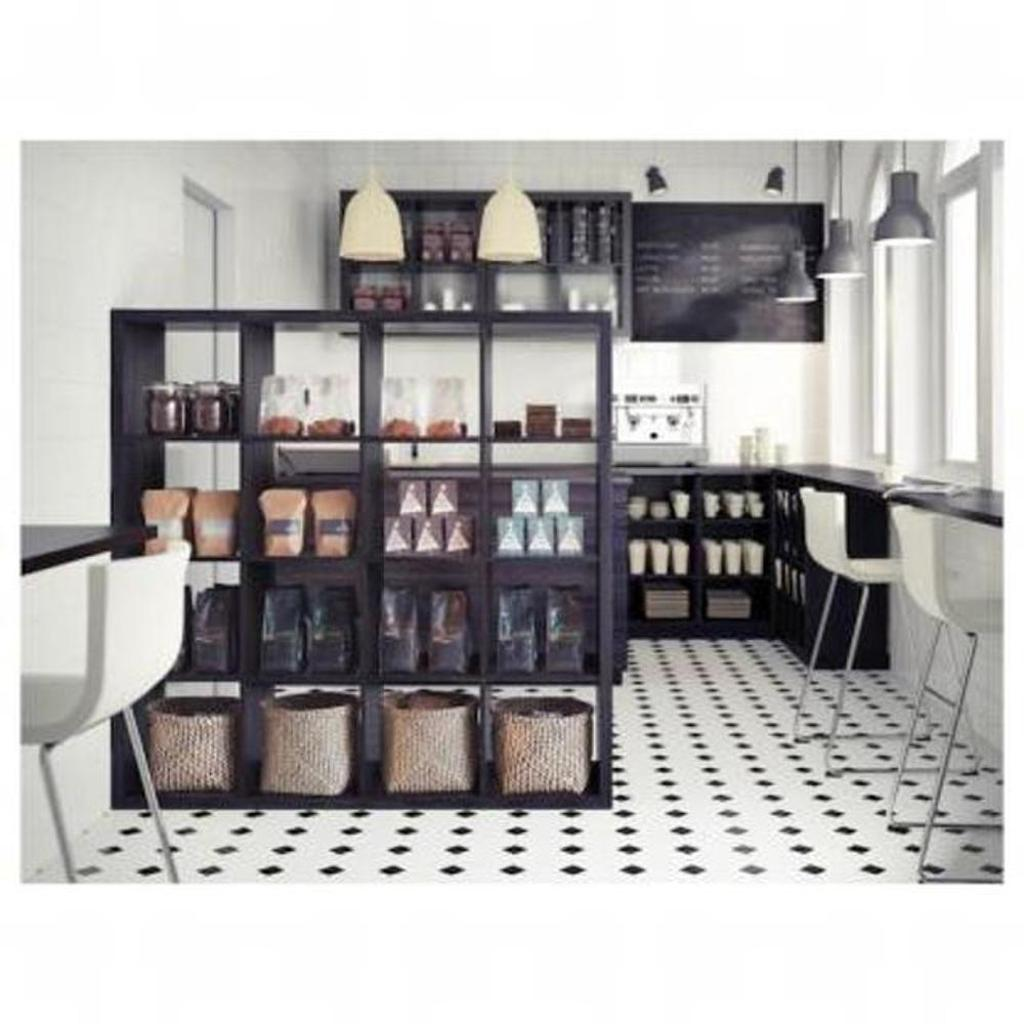lamp: (103, 306, 614, 814)
